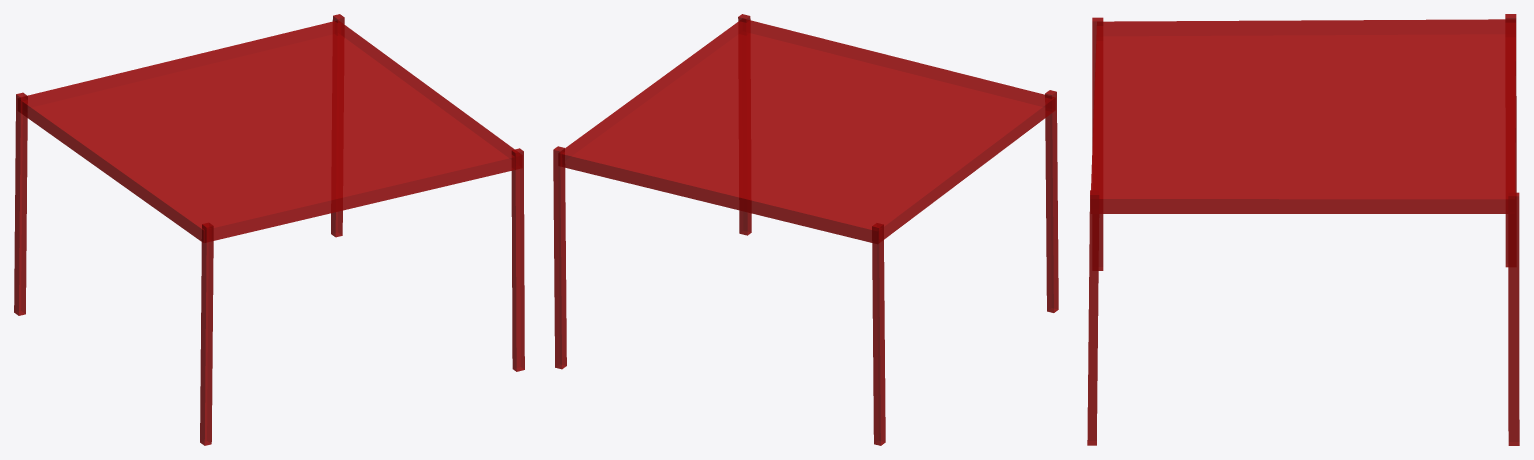
The model's file is SM_Bld_CamoNet_Tent_01_Collision.fbx.
The picture shows the model from 3 angles, left to right: view 1: azimuth 30°, elevation 25°; view 2: azimuth 150°, elevation 25°; view 3: azimuth 270°, elevation 25°; orthographic projection. The views are drawn at different scales.
Visible parts, largest first — view 1: SM_Bld_CamoNet_Tent_01_Collision; view 2: SM_Bld_CamoNet_Tent_01_Collision; view 3: SM_Bld_CamoNet_Tent_01_Collision.
Part boxes in pixels (left/top/right/bottom): SM_Bld_CamoNet_Tent_01_Collision: left=14, top=14, right=524, bottom=445; SM_Bld_CamoNet_Tent_01_Collision: left=553, top=14, right=1058, bottom=445; SM_Bld_CamoNet_Tent_01_Collision: left=1087, top=14, right=1519, bottom=445.
Bounding box in the file's own units: 460 × 293 × 458.
